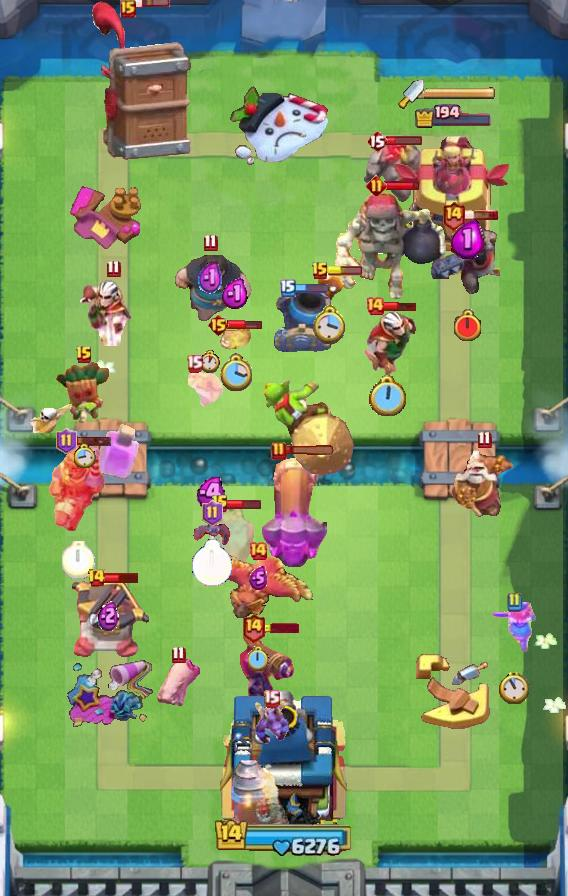bar: (391, 132, 515, 256)
barbarian-barrel: (191, 521, 233, 547)
bomber: (316, 271, 344, 303)
clock: (214, 817, 354, 857)
dart-goblin: (92, 0, 192, 162)
electro-giant: (333, 191, 451, 303)
electro-spirit: (452, 220, 485, 259), (195, 476, 228, 507), (197, 259, 222, 297), (222, 278, 250, 310), (98, 599, 119, 631), (248, 566, 267, 590)
elixir: (191, 539, 233, 587), (369, 375, 408, 419), (312, 303, 348, 344), (219, 353, 253, 393), (61, 541, 95, 579), (453, 309, 484, 343), (499, 672, 529, 704), (72, 444, 95, 469), (247, 645, 268, 671), (199, 350, 221, 374)
elixir-collector: (448, 447, 520, 519)
emote: (284, 444, 336, 455), (104, 571, 141, 584), (75, 435, 113, 447), (386, 134, 423, 146), (463, 209, 499, 221), (293, 282, 329, 294), (226, 498, 261, 510), (384, 180, 421, 191), (382, 301, 418, 312), (227, 318, 263, 329), (327, 266, 363, 276), (263, 623, 299, 633), (134, 0, 171, 8)
furnace: (259, 455, 327, 567)
giant: (152, 656, 204, 710)
goblin-barrel: (55, 362, 113, 428)
heal-spirit: (29, 399, 77, 433)
hog-rider: (490, 600, 538, 654)
ice-spirit-evolution: (218, 326, 252, 352)
inferno-dragon: (428, 211, 506, 301)
king-tower: (214, 684, 354, 826)
king-tower-bar: (424, 87, 496, 101)
knight-evolution: (95, 423, 139, 480)
lava-pup: (67, 581, 149, 661)
magic-archer: (229, 759, 289, 851)
mega-minion: (239, 630, 297, 704)
mortar-evolution: (204, 504, 258, 570)
mother-witch: (193, 552, 323, 626)
musketeer: (272, 288, 332, 352)
ram-rider: (49, 443, 107, 535)
royal-delivery: (253, 698, 289, 746)
royal-hog: (166, 255, 254, 325)
selected: (414, 103, 494, 128)
skeleton-king: (76, 280, 150, 346), (356, 310, 420, 378)
text: (442, 200, 467, 231), (241, 613, 266, 644), (207, 313, 230, 337), (55, 428, 76, 454), (201, 500, 222, 526), (366, 129, 388, 153), (366, 175, 387, 196), (365, 296, 385, 316), (248, 541, 268, 561), (86, 568, 106, 588), (311, 261, 329, 281), (75, 345, 93, 365), (211, 494, 229, 514), (271, 441, 287, 461), (506, 592, 522, 612), (185, 355, 202, 373), (263, 689, 280, 707), (120, 0, 136, 18), (280, 279, 296, 297), (202, 232, 217, 251), (477, 430, 492, 449), (170, 645, 185, 664), (106, 259, 121, 277)
valkyrie-evolution: (360, 138, 428, 208)
x-bow: (259, 378, 357, 478)
zap: (188, 369, 224, 409)
